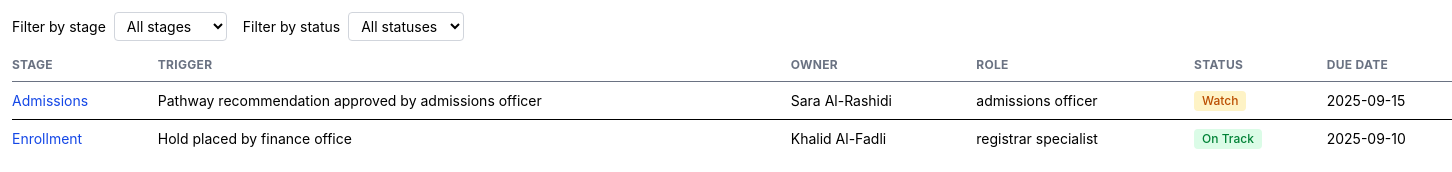
WorkflowList › filters rows to only show the selected stage
This screenshot has width=1452, height=172.
Select "admissions" in the dropdown labelled "Filter by stage" at (170, 26), box [114,12,227,41]
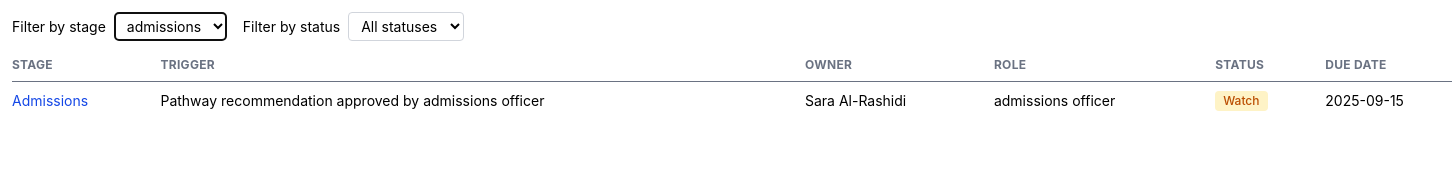
Expected: the text "Sara Al-Rashidi" is shown, [805,82,994,119]
Now the text "Khalid Al-Fadli" is gone
